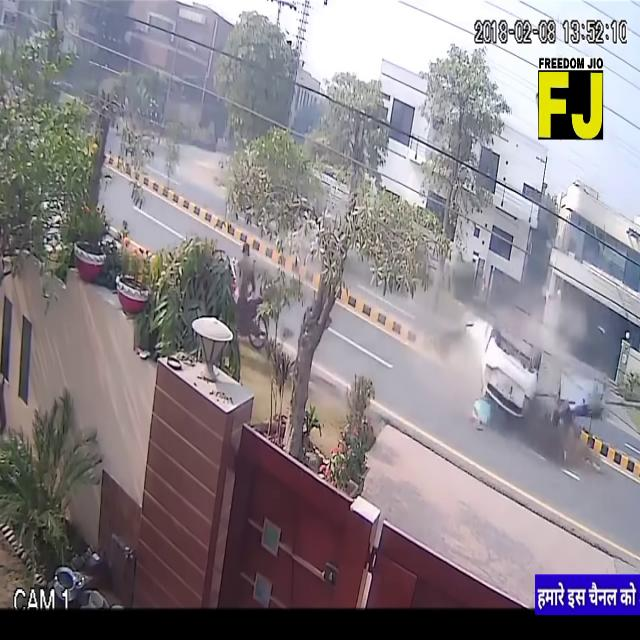accident: (475, 298, 549, 452)
